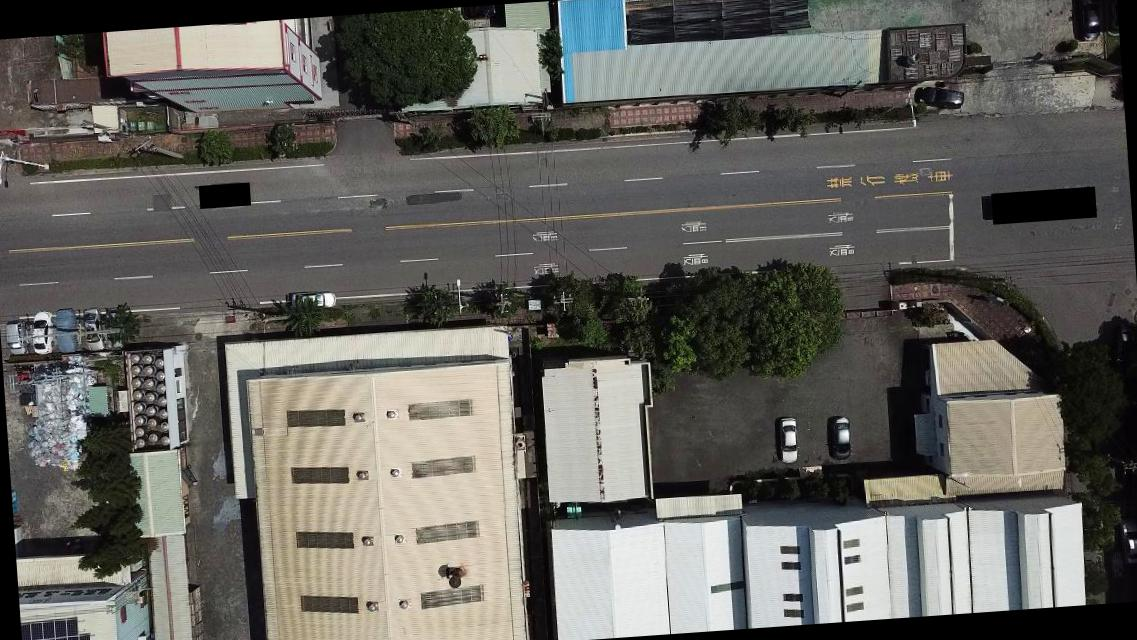vehicle: (774, 415, 802, 468), (916, 84, 966, 111), (285, 288, 338, 313), (1078, 0, 1102, 43), (832, 416, 854, 462), (31, 312, 54, 354), (1, 321, 27, 356), (79, 309, 100, 352), (1118, 517, 1136, 566), (102, 310, 120, 352)
